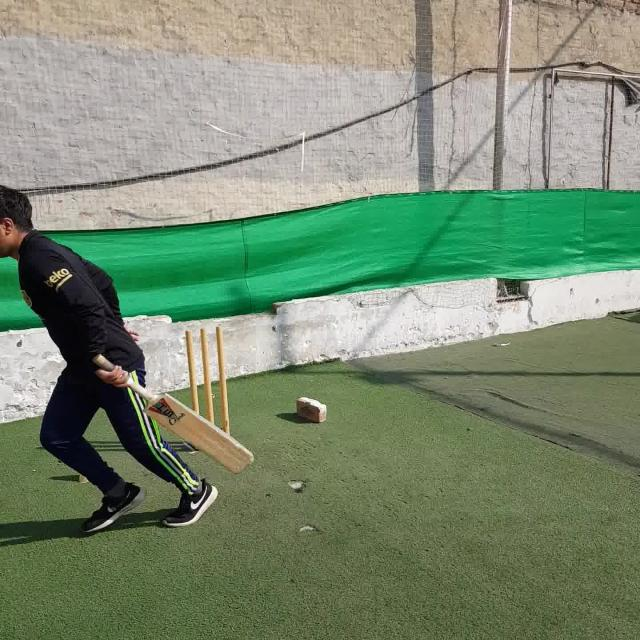bat: (96, 354, 257, 476)
